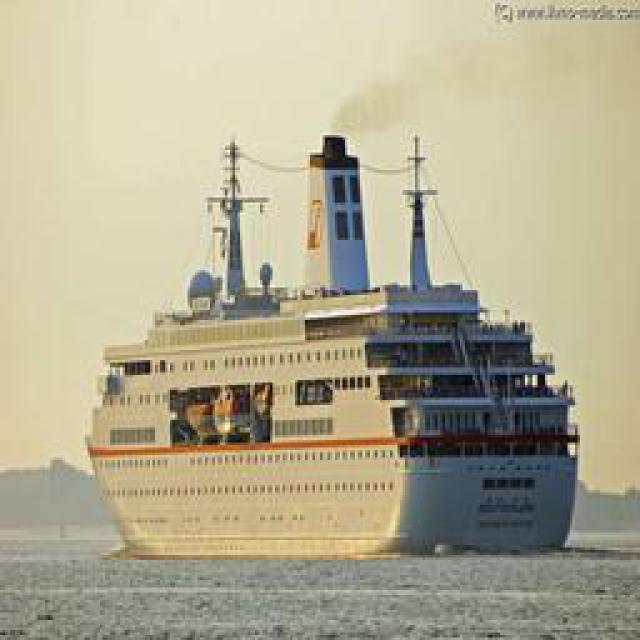Ship: (87, 104, 575, 569)
